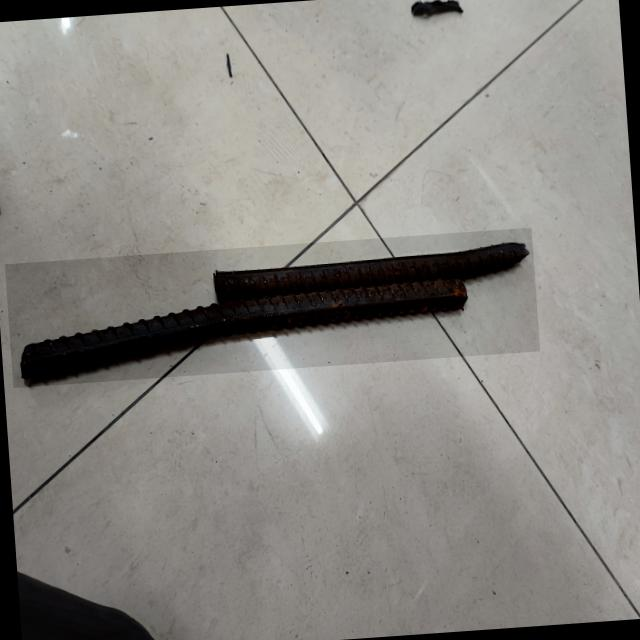Welded link: (206, 249, 471, 334)
ribbed bar: (4, 228, 540, 388)
